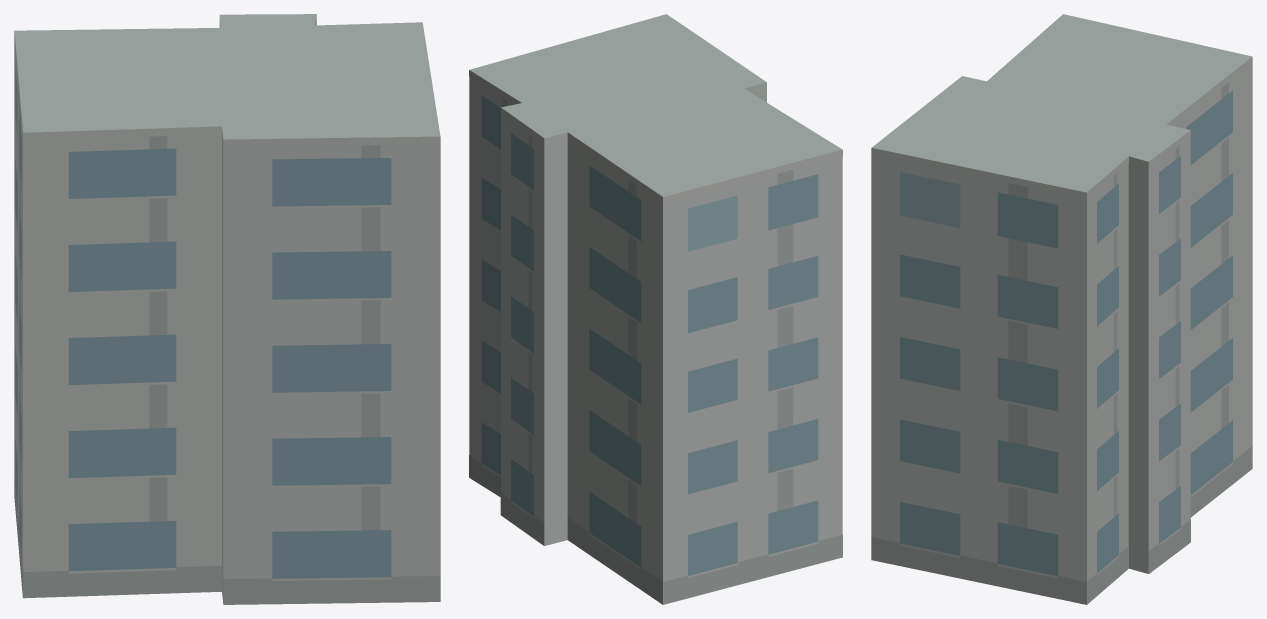
File: survey-upis-33028033.glb
3 views of the same model, side by side, from view 1: azimuth 30°, elevation 25°; view 2: azimuth 150°, elevation 25°; view 3: azimuth 270°, elevation 25° (orthographic). The views are drawn at different scales.
Parts seen in each view (by area): view 1: survey-upis-33028033.tmp; view 2: survey-upis-33028033.tmp; view 3: survey-upis-33028033.tmp.
Boxes of the visible parts, x1=… form: survey-upis-33028033.tmp: x1=14, y1=14, x2=440, y2=604; survey-upis-33028033.tmp: x1=469, y1=14, x2=842, y2=604; survey-upis-33028033.tmp: x1=871, y1=14, x2=1252, y2=604.
Bounding box in the file's own units: 13.29 × 14.3 × 11.99.
